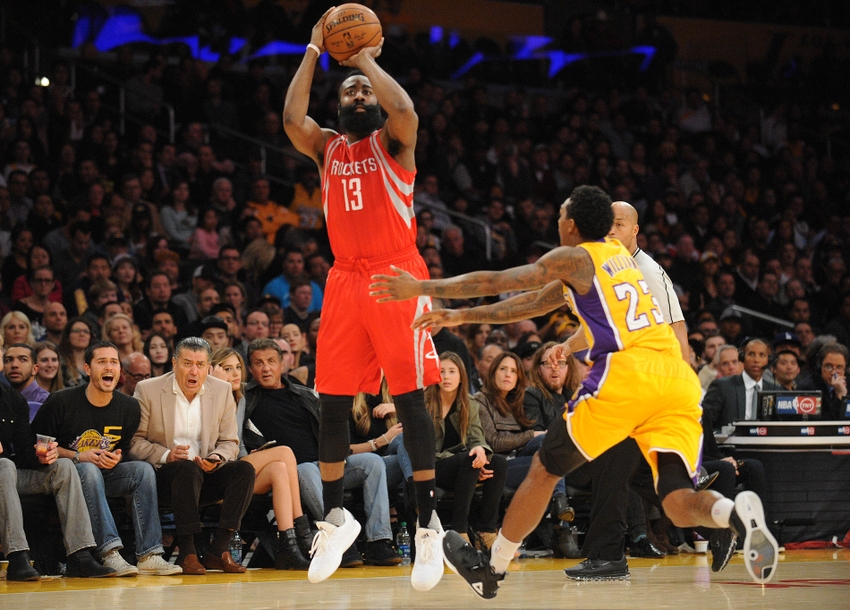Basketball: (320, 1, 382, 62)
